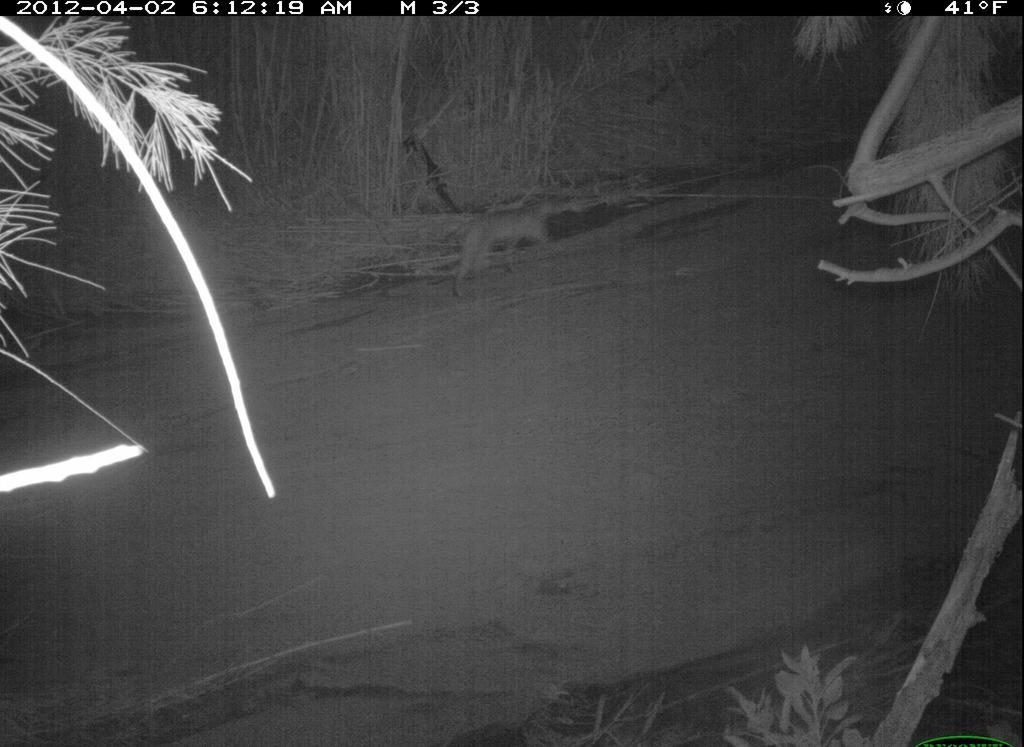bobcat: (447, 192, 576, 303)
